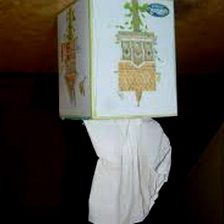plastic_box: (51, 0, 182, 126)
tissue: (77, 113, 176, 224)
